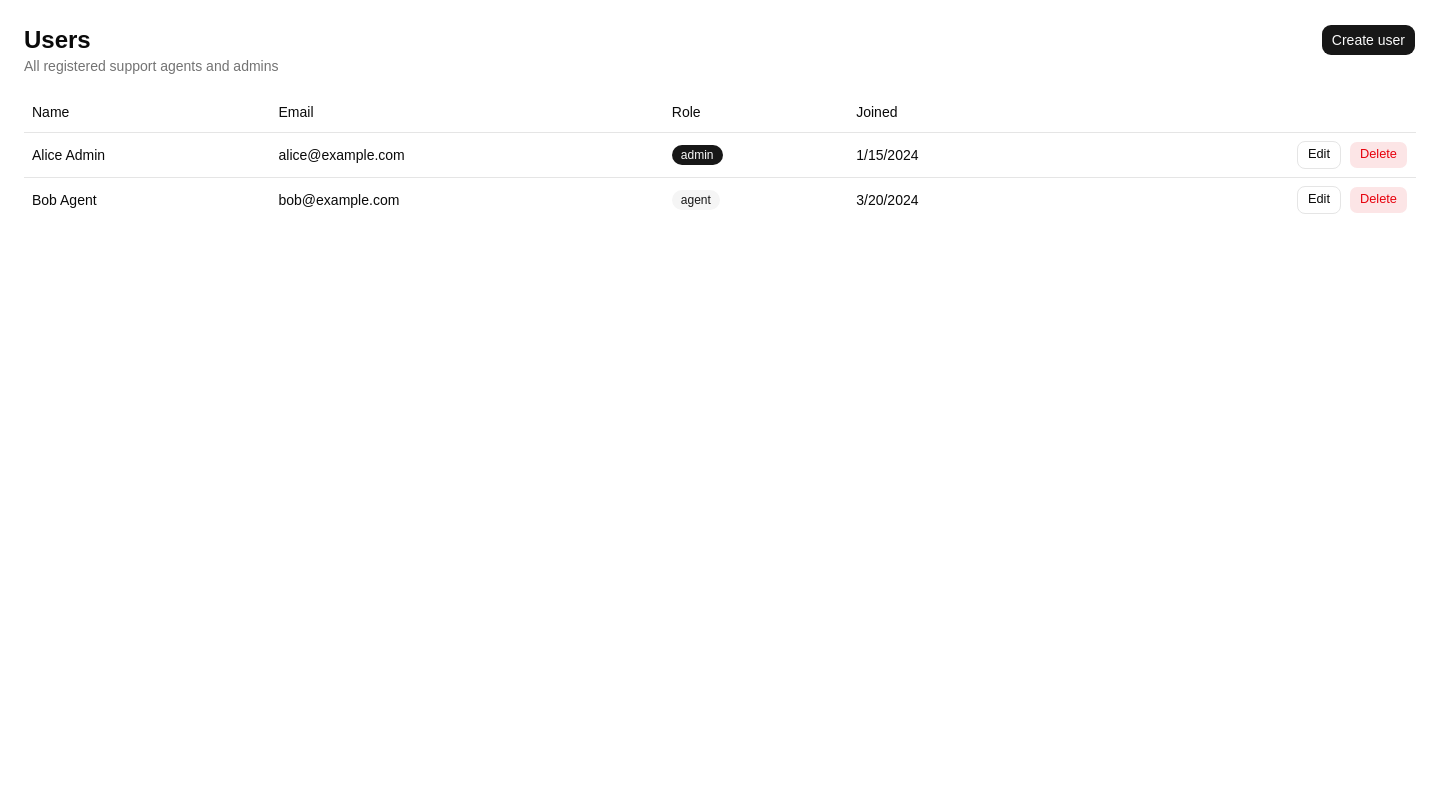
Test: UsersPage › opens the Delete confirmation dialog when Delete is clicked
The width and height of the screenshot is (1440, 810).
Expected: the table with test id "users-table" is shown, [24,92,1416,222]
Click the button "Delete" in the row of "Alice Admin".
click(1378, 154)  # box [1349,140,1408,168]
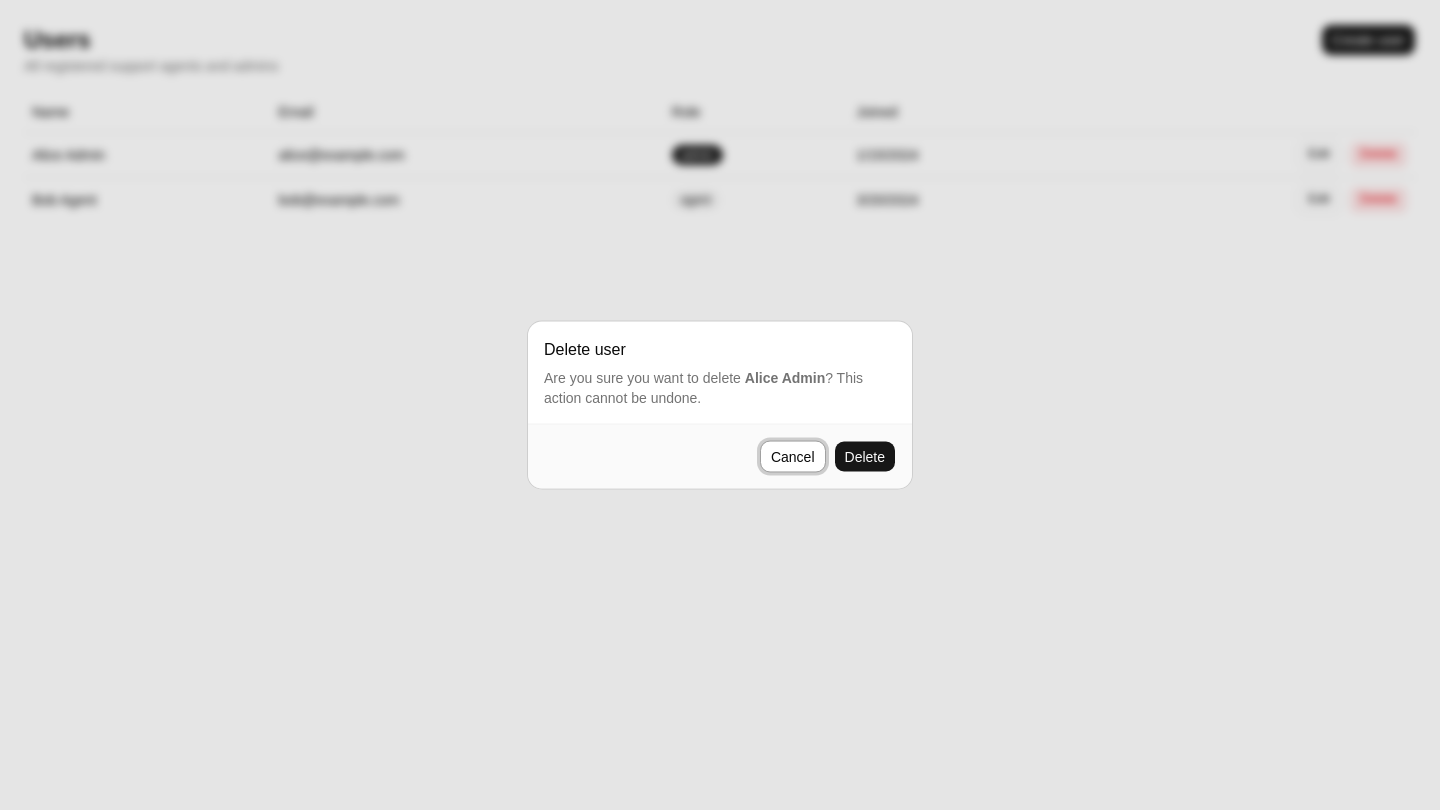
Now the dialog is shown, box [528,322,912,488]
Now the text "Alice Admin" is shown, box [745,370,825,386]
